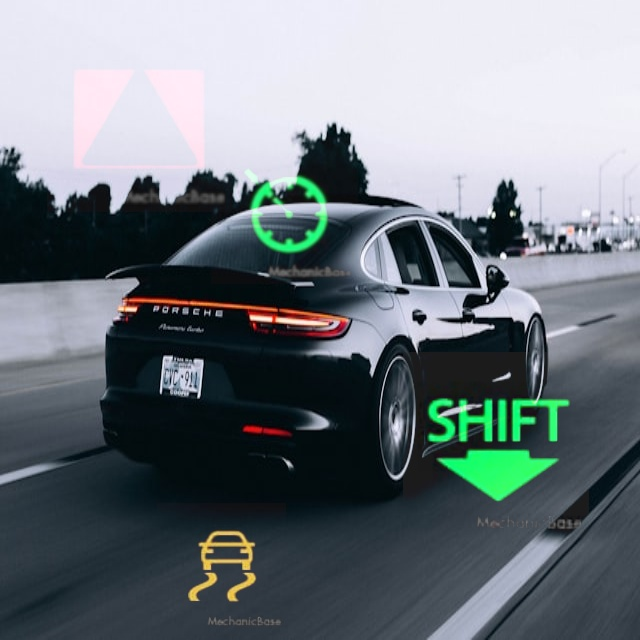symbol: (403, 352, 589, 538), (47, 27, 232, 212), (211, 137, 358, 284), (157, 503, 286, 632)
